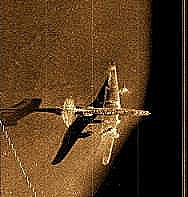aircraft: (59, 62, 152, 167)
